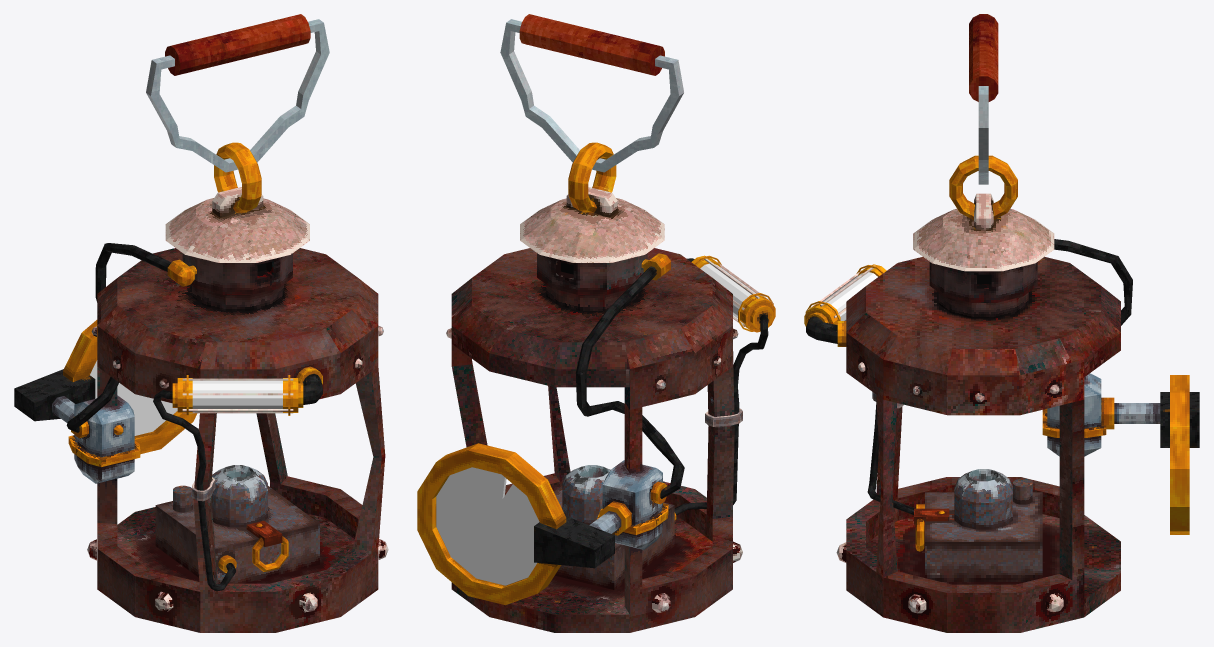
Rendered from Base_Lamp Texturized.gltf.
3 views of the same model, side by side, from view 1: azimuth 30°, elevation 25°; view 2: azimuth 150°, elevation 25°; view 3: azimuth 270°, elevation 25° (orthographic). The views are drawn at different scales.
Visible parts, largest first — view 1: body, cylinder (×2), Base, sphere, Alça, motor mecanismo, Boca Chama, torus (×2), Glass, Suporte armação, Armação lente, fio (+7 smaller); view 2: body, Lente Cristal, cylinder (×2), Armação lente, sphere, Alça, Fio, Suporte armação, motor mecanismo, Base, Boca Chama, torus (+6 smaller); view 3: body, Base, cylinder (×2), sphere, Boca Chama, Armação lente, torus, motor mecanismo, Fio, Suporte armação, Alça, haste de rotação (+5 smaller).
Boxes of the visible parts, x1,y1,x2,y2 form: body: (97, 248, 385, 632); cylinder (×2): (165, 14, 310, 310); Base: (155, 485, 319, 583); sphere: (165, 198, 309, 262); Alça: (146, 19, 329, 172); motor mecanismo: (74, 395, 134, 483); Boca Chama: (211, 465, 267, 527); torus (×2): (214, 142, 288, 571); Glass: (192, 380, 282, 408); Suporte armação: (14, 369, 95, 421); Armação lente: (63, 320, 197, 454); fio: (153, 383, 235, 591); body: (451, 248, 734, 632); Lente Cristal: (436, 467, 539, 585); cylinder (×2): (519, 14, 664, 310); Armação lente: (417, 443, 566, 605); sphere: (520, 198, 664, 262); Alça: (500, 19, 683, 172); Fio: (575, 266, 684, 498); Suporte armação: (534, 516, 614, 568); motor mecanismo: (602, 460, 662, 549); Base: (554, 486, 674, 589); Boca Chama: (562, 465, 610, 524); torus: (568, 142, 616, 212); body: (846, 256, 1120, 632); Base: (925, 478, 1042, 581); cylinder (×2): (929, 14, 1037, 318); sphere: (913, 208, 1054, 271); Boca Chama: (954, 469, 1012, 529); Armação lente: (1170, 375, 1189, 534); torus: (949, 155, 1017, 219); motor mecanismo: (1047, 373, 1101, 456); Fio: (1054, 239, 1132, 325); Suporte armação: (1160, 392, 1199, 447); Alça: (978, 86, 988, 184); haste de rotação: (1114, 403, 1160, 423).
Bounding box in the file's own units: 0.9224 × 1.86 × 1.26.
Materials: 1 (1 with a texture image).
